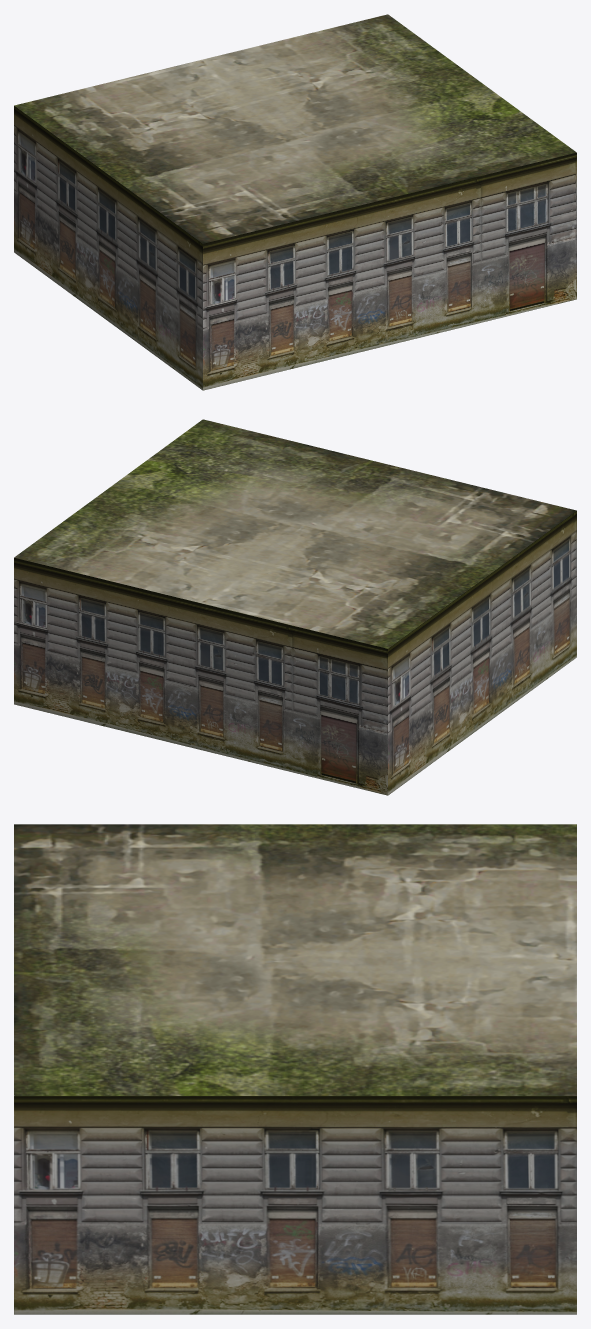
Rendered from LOD_Building_3.fbx.
The picture shows the model from 3 angles, top to bottom: view 1: azimuth 30°, elevation 25°; view 2: azimuth 150°, elevation 25°; view 3: azimuth 270°, elevation 25°; orthographic projection. The views are drawn at different scales.
Parts seen in each view (by area): view 1: Cube.001; view 2: Cube.001; view 3: Cube.001.
Boxes of the visible parts, bbox=[...] form: Cube.001: bbox=[14, 14, 576, 390]; Cube.001: bbox=[14, 419, 576, 795]; Cube.001: bbox=[14, 824, 576, 1314].
Bounding box in the file's own units: 800 × 300 × 700.
